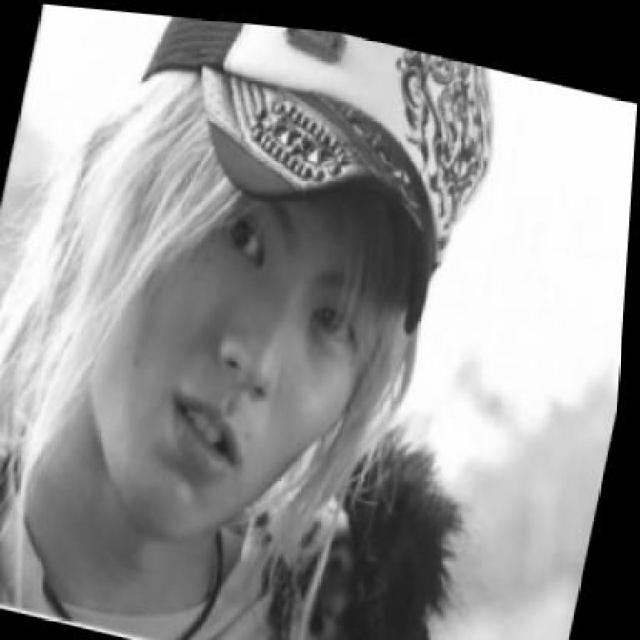hat: (141, 13, 499, 325)
